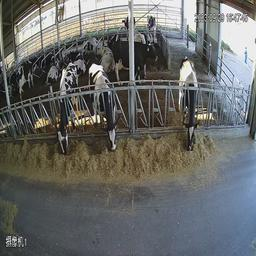cow: (85, 59, 119, 165), (175, 52, 204, 164), (53, 59, 80, 152), (110, 35, 158, 86), (12, 58, 39, 98), (95, 36, 115, 72), (67, 43, 86, 80), (44, 56, 59, 93), (146, 12, 159, 45), (121, 10, 129, 33)
